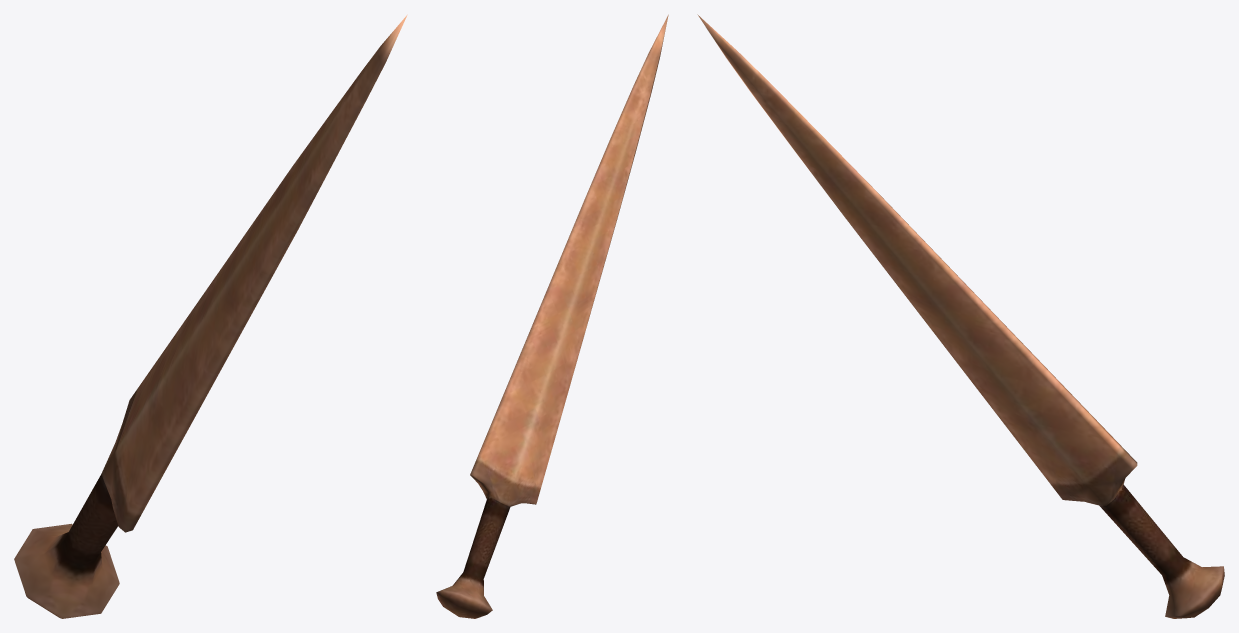
Rendered from rider-weapon-slice-bronzeweapons.glb.
3 views of the same model, side by side, from view 1: azimuth 30°, elevation 25°; view 2: azimuth 150°, elevation 25°; view 3: azimuth 270°, elevation 25° (orthographic). The views are drawn at different scales.
Bounding box in the file's own units: 0.0979 × 0.8644 × 0.6945.
1 material, 1 textured.
